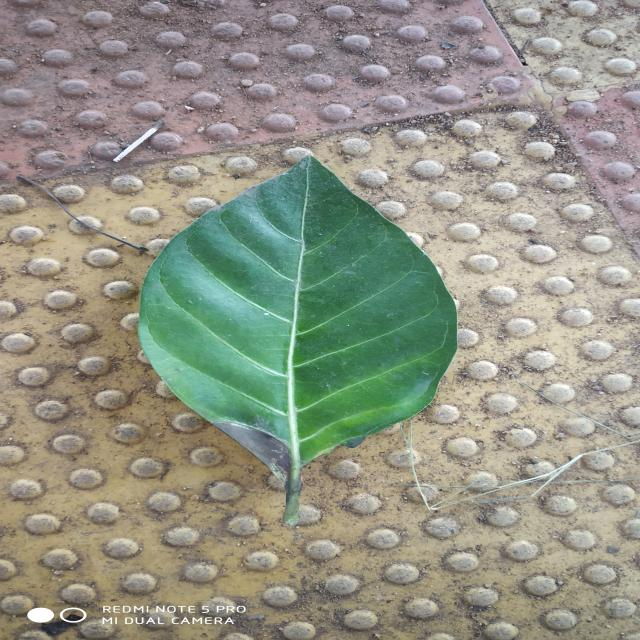nooni: (138, 156, 458, 524)
